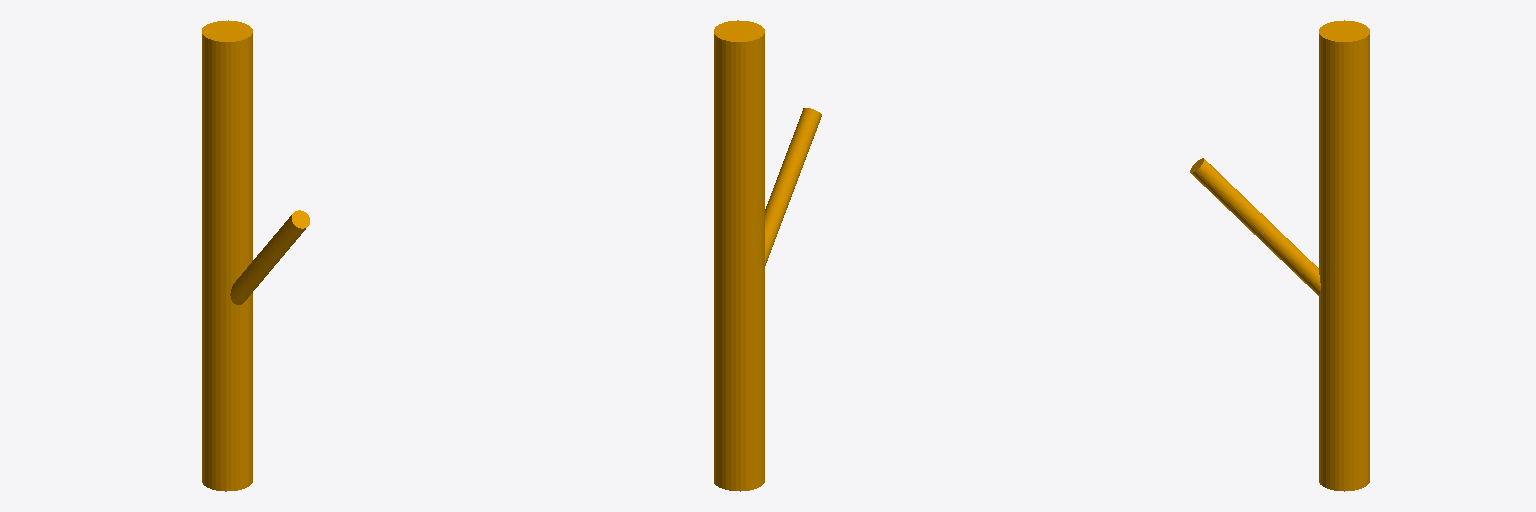
robot.urdf — syn_rack_97:
<?xml version="1.0" ?>
<robot name="syn_rack_97">
    <link concave="yes" name="base_link">
        <inertial>
            <origin rpy="0 0 0" xyz="0 0 0"/>
            <mass value="0.0"/>
            <inertia ixx="1e-08" ixy="0" ixz="0" iyy="1e-08" iyz="0" izz="1e-08"/>
        </inertial>
        <visual>
            <origin xyz="0 0 0" rpy="0 0 0" />
            <geometry>
                <mesh filename="syn_rack_97.obj" scale="1.000000 1.000000 1.000000"/>
            </geometry>
        </visual>

        <collision concave="yes">
            <origin xyz="0 0 0" rpy="0 0 0"/>
            <geometry>
                <mesh filename="syn_rack_97.obj" scale="1.000000 1.000000 1.000000"/>
            </geometry>
        </collision>
    </link>
</robot>
    

--- Facts derived from the render (not from the file) ---
Views: 3 orthographic renders of the robot side by side, from view 1: azimuth 30°, elevation 25°; view 2: azimuth 150°, elevation 25°; view 3: azimuth 270°, elevation 25°.
Robot: syn_rack_97 — 1 links, 0 joints (none); root link base_link; default pose: all joints at 0.
Visible links, largest first — view 1: base_link; view 2: base_link; view 3: base_link.
Link boxes in pixels (<box>): base_link: <box>202,20,309,491</box>; base_link: <box>714,20,821,491</box>; base_link: <box>1190,20,1369,491</box>.
Bounding box of the posed robot: 0.0306 × 0.1074 × 0.2954 m (x, y, z).
1 mesh visuals loaded from 1 distinct referenced files (1 OBJ).
